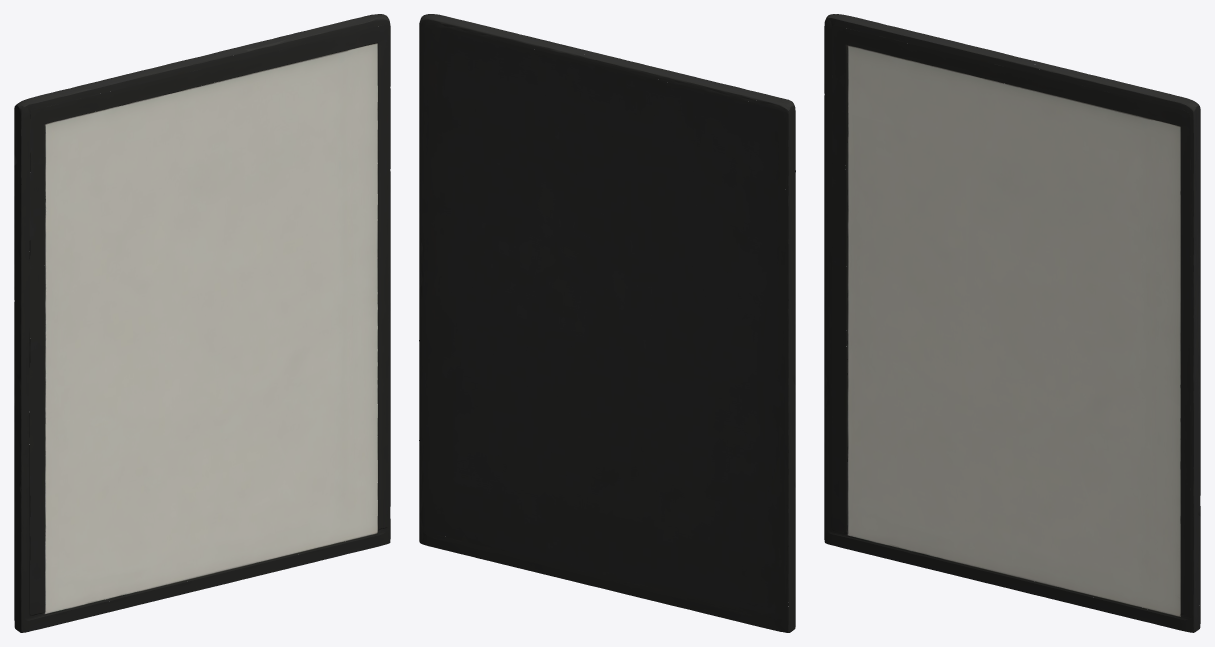
File: poster_frame.glb
3 views of the same model, side by side, from view 1: azimuth 30°, elevation 25°; view 2: azimuth 150°, elevation 25°; view 3: azimuth 330°, elevation 25° (orthographic).
Visible parts, largest first — view 1: Mesh; view 2: Mesh; view 3: Mesh.
Boxes of the visible parts, x1,y1,x2,y2 form: Mesh: [14, 14, 390, 632]; Mesh: [419, 14, 795, 632]; Mesh: [824, 14, 1200, 632].
Size of the model in its own units: 1.39 by 1.89 by 0.0504.
1 material, 1 textured.
